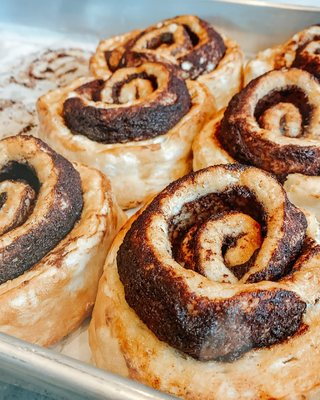salad: (89, 163, 319, 400), (0, 134, 122, 349), (218, 69, 320, 178)
